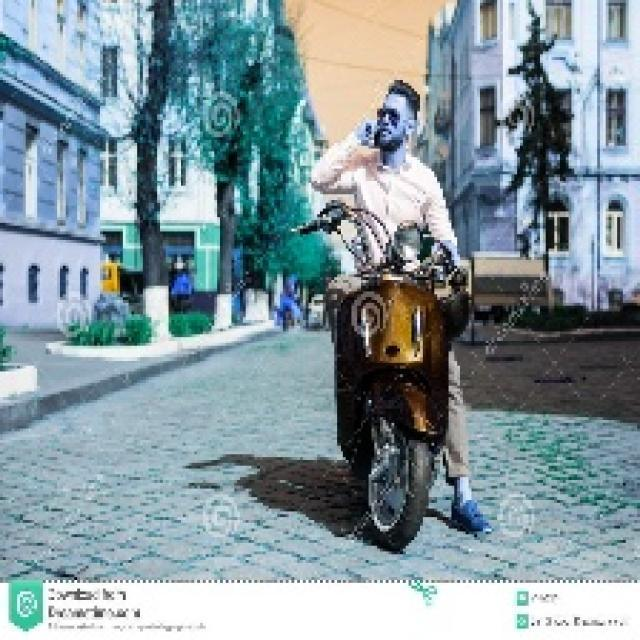bike: (316, 201, 457, 546)
